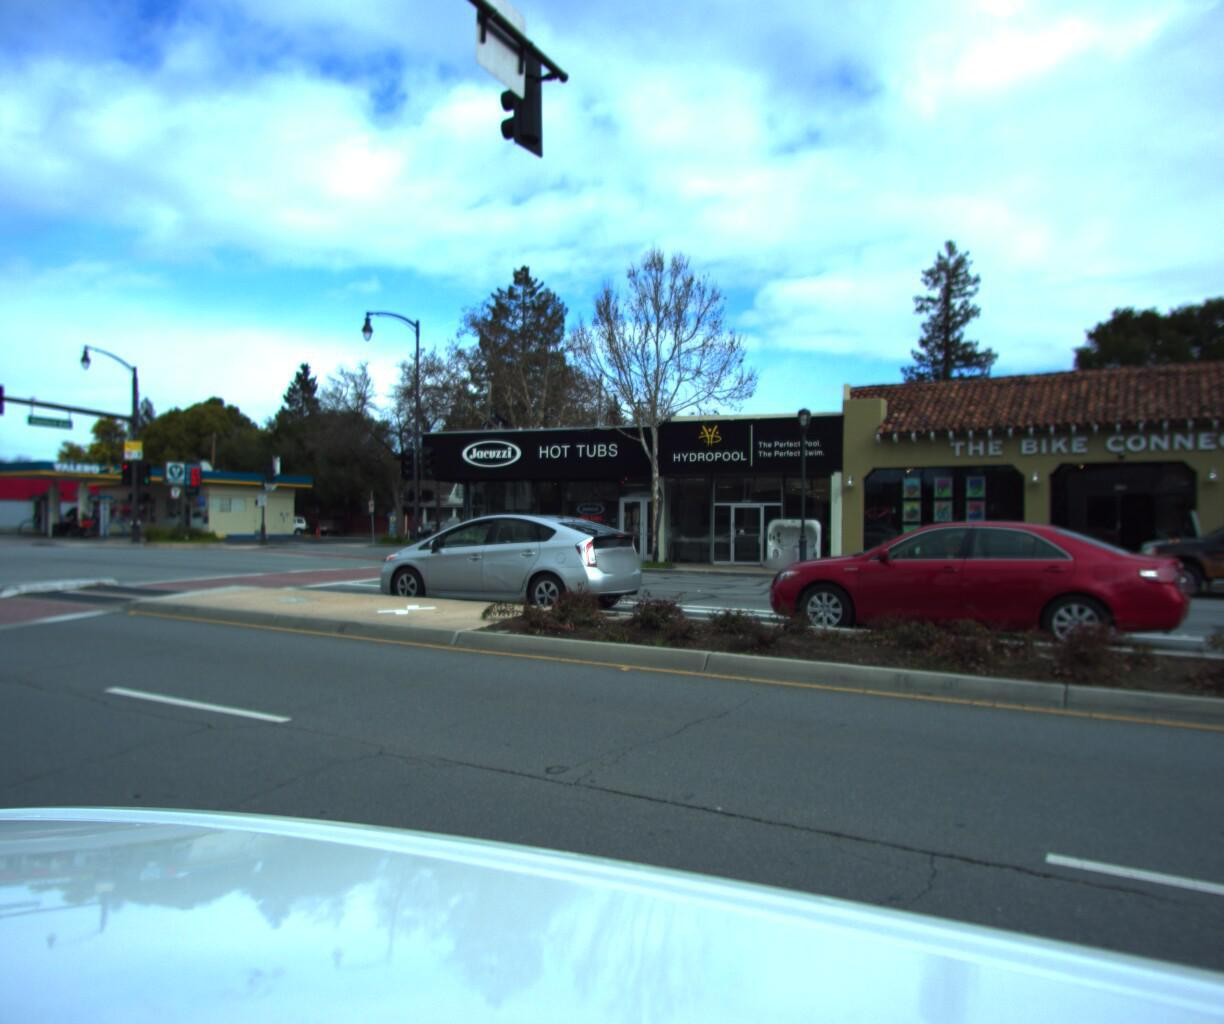car: (744, 514, 1206, 659), (351, 508, 656, 622), (867, 517, 1105, 592), (1123, 455, 1224, 609)
motorcycle: (60, 508, 96, 534)
